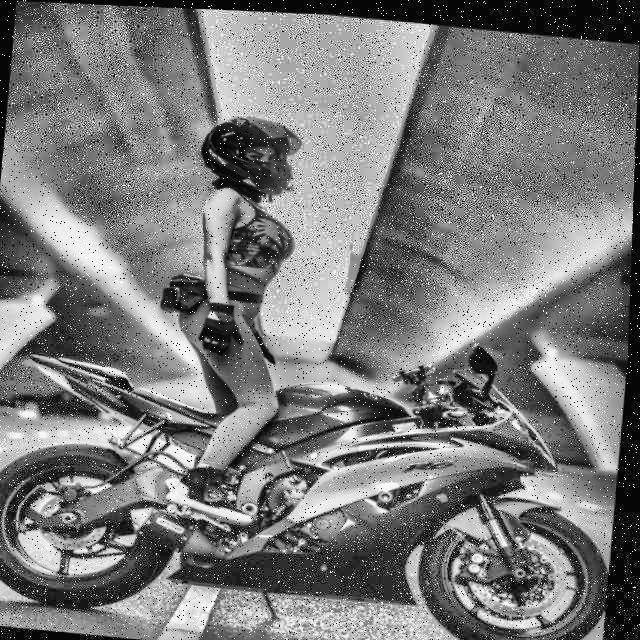Helmet: (194, 107, 306, 204)
